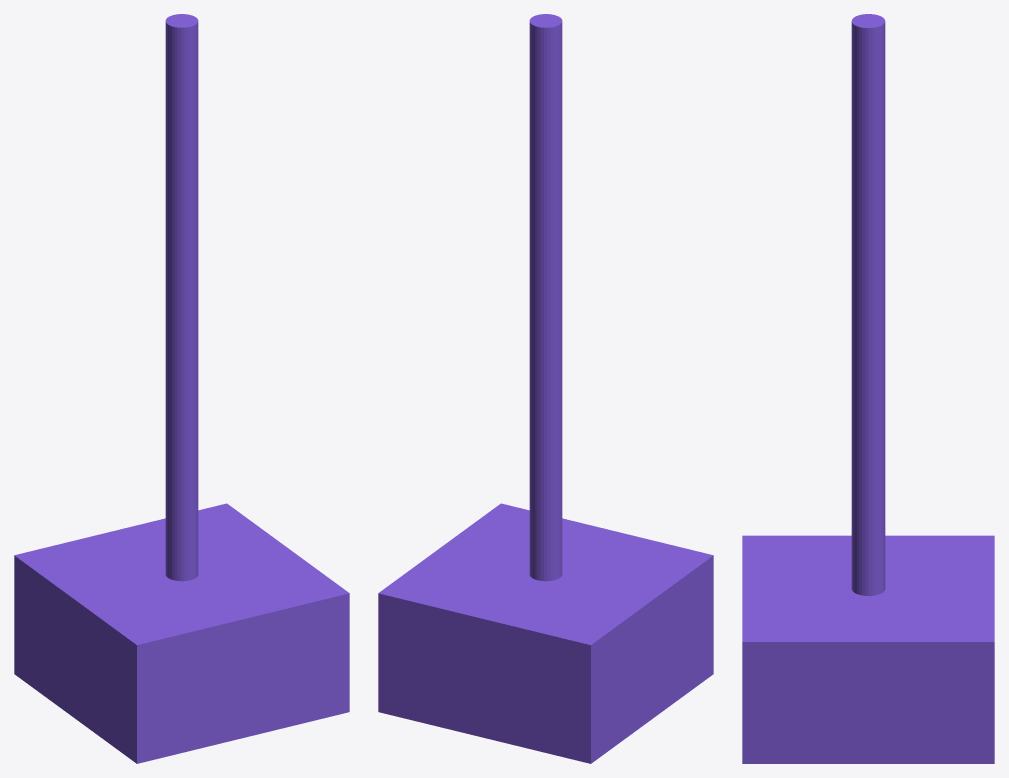
File: Hammer.fbx
3 views of the same model, side by side, from view 1: azimuth 30°, elevation 25°; view 2: azimuth 150°, elevation 25°; view 3: azimuth 270°, elevation 25° (orthographic). The views are drawn at different scales.
Parts seen in each view (by area): view 1: Head; view 2: Head; view 3: Head.
Boxes of the visible parts, bbox=[...] form: Head: bbox=[14, 14, 349, 763]; Head: bbox=[378, 14, 713, 763]; Head: bbox=[742, 14, 994, 763].
Bounding box in the file's own units: 300 × 906 × 300.
